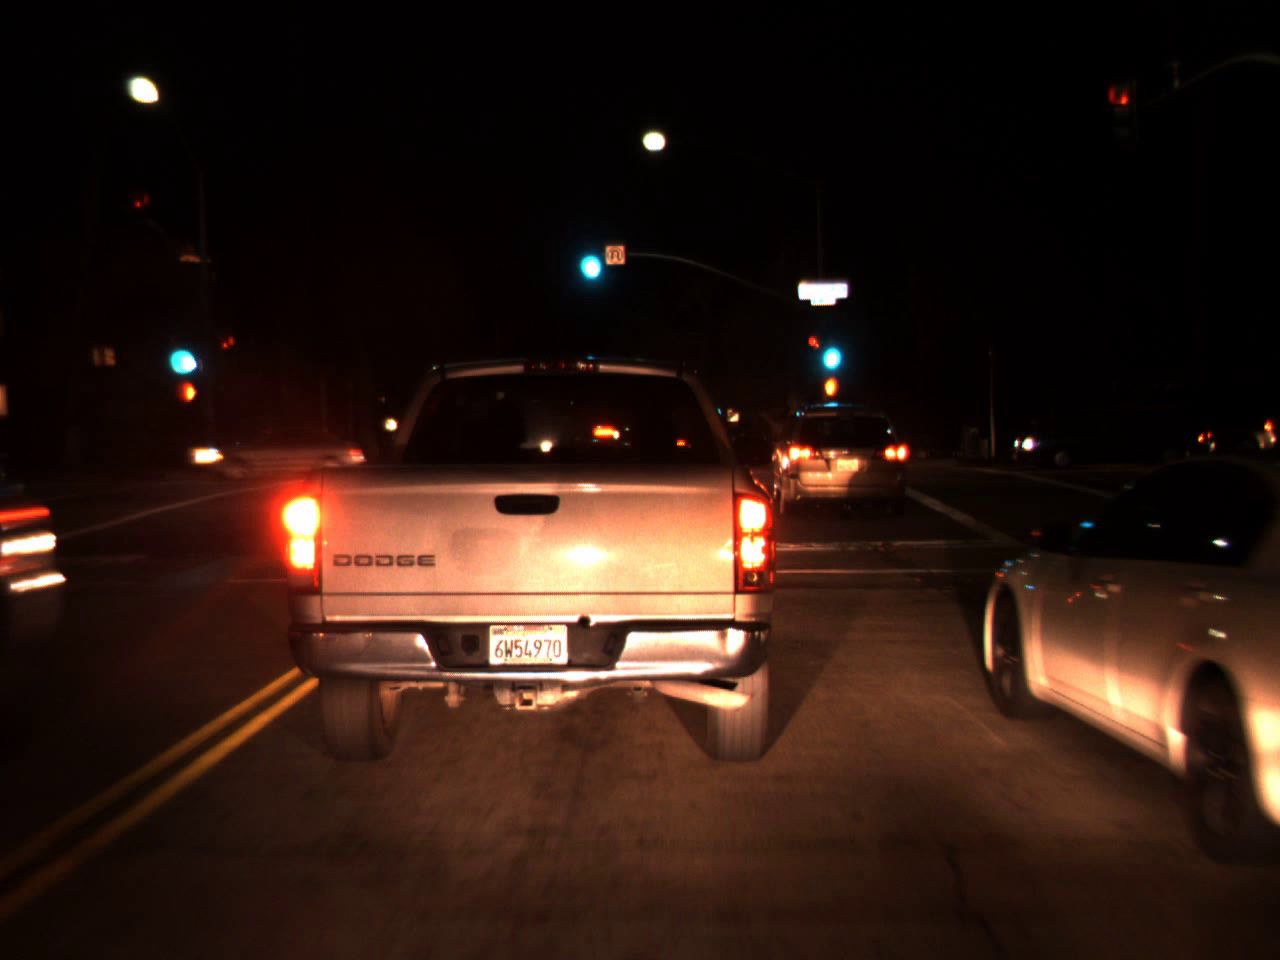go: (571, 223, 605, 289), (159, 324, 200, 378), (816, 319, 844, 379)
